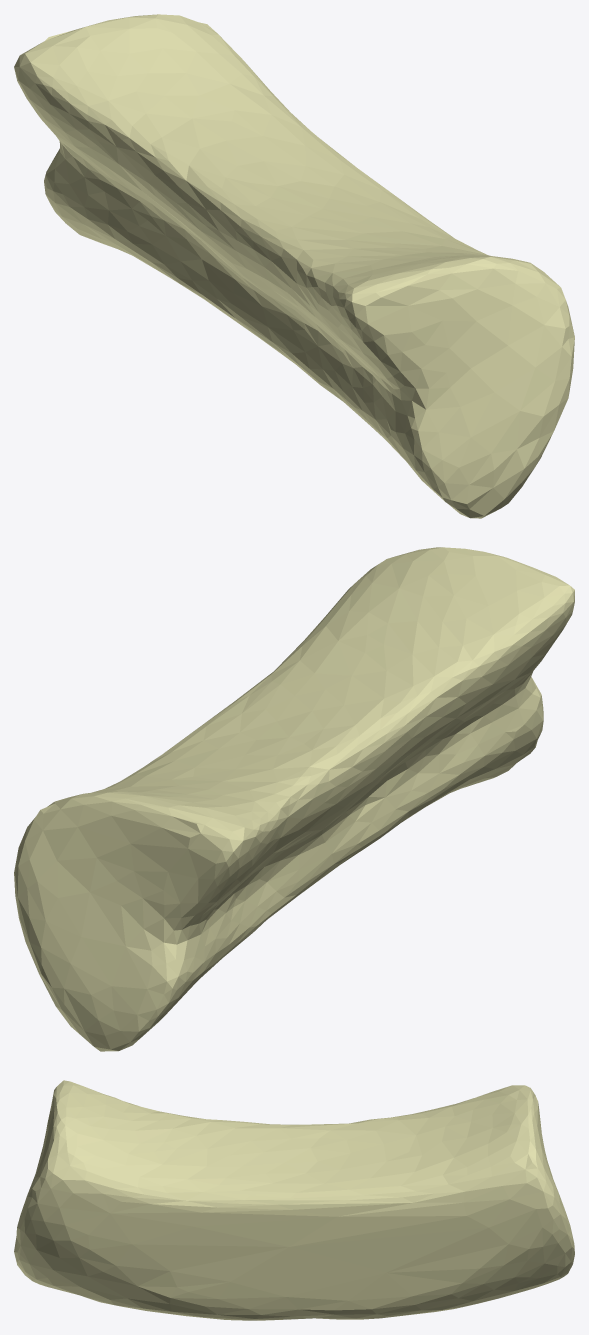
The picture shows the model from 3 angles, top to bottom: view 1: azimuth 30°, elevation 25°; view 2: azimuth 150°, elevation 25°; view 3: azimuth 270°, elevation 25°; orthographic projection. The views are drawn at different scales.
Parts seen in each view (by area): view 1: 944.obj; view 2: 944.obj; view 3: 944.obj.
Part boxes in pixels (left/top/right/bottom): 944.obj: left=14, top=14, right=574, bottom=518; 944.obj: left=14, top=547, right=574, bottom=1051; 944.obj: left=14, top=1080, right=574, bottom=1320.
Size of the model in its own units: 851 by 962 by 2702.
